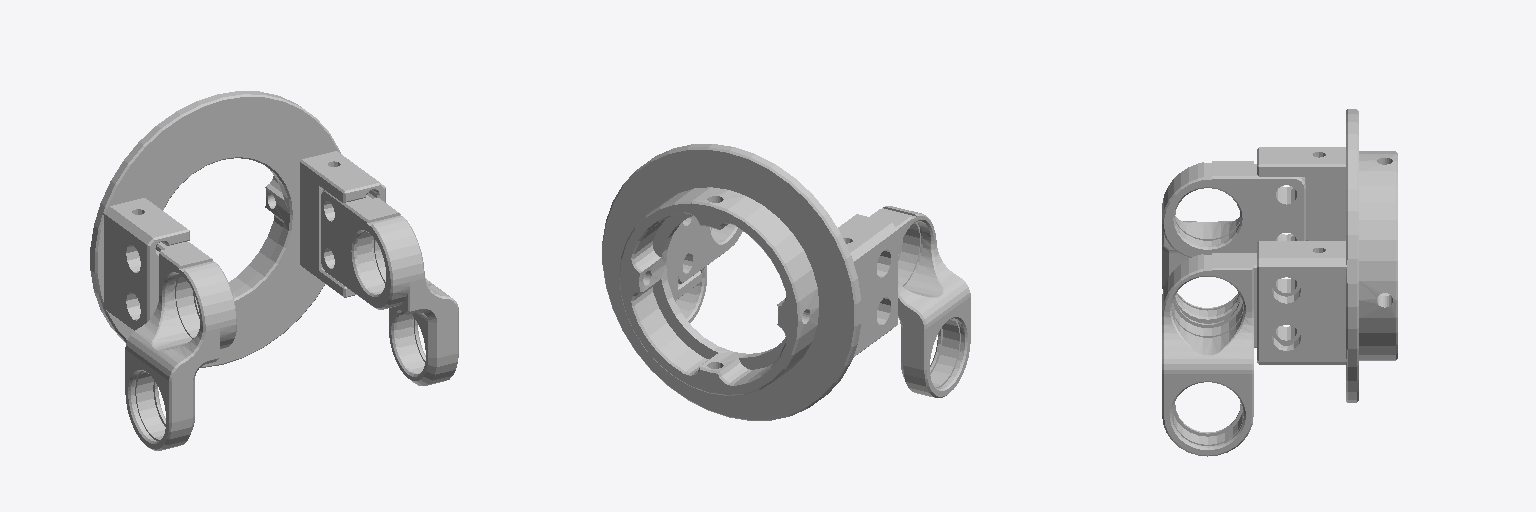
Rendered from right_hand_pitch_link.obj.
3 views of the same model, side by side, from view 1: azimuth 30°, elevation 25°; view 2: azimuth 150°, elevation 25°; view 3: azimuth 270°, elevation 25° (orthographic).
Parts seen in each view (by area): view 1: right_hand_pitch_link; view 2: right_hand_pitch_link; view 3: right_hand_pitch_link.
Boxes of the visible parts, box(x1,y1,x2,y2) form: right_hand_pitch_link: box(90, 91, 458, 450); right_hand_pitch_link: box(602, 144, 970, 420); right_hand_pitch_link: box(1162, 109, 1397, 456).
Bounding box in the file's own units: 0.051 × 0.045 × 0.036.